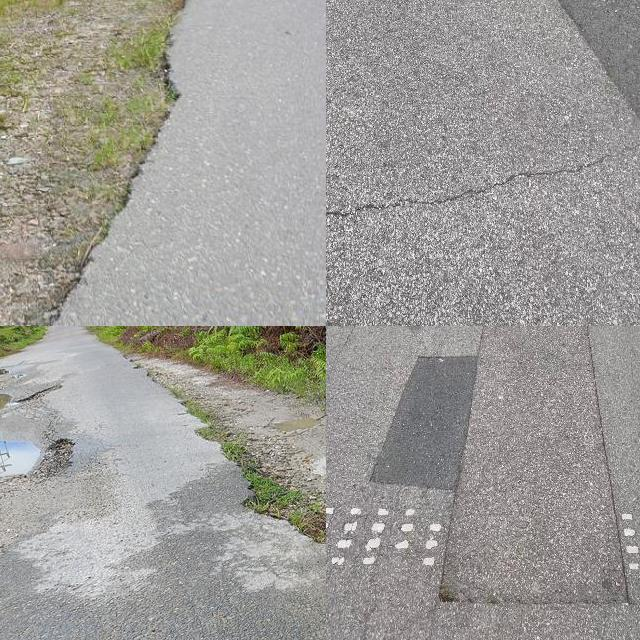Melintang: (326, 129, 640, 250)
Pinggir: (0, 0, 226, 326), (145, 369, 326, 588)
Sambungan: (369, 326, 629, 598), (555, 0, 640, 131)
